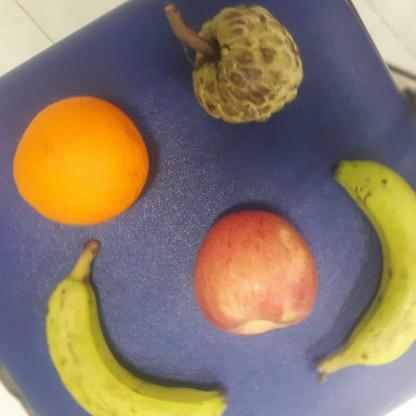annona: (193, 2, 304, 126)
apple: (191, 207, 323, 339)
banana: (42, 236, 228, 415), (317, 160, 416, 382)
orange: (12, 95, 150, 228)
